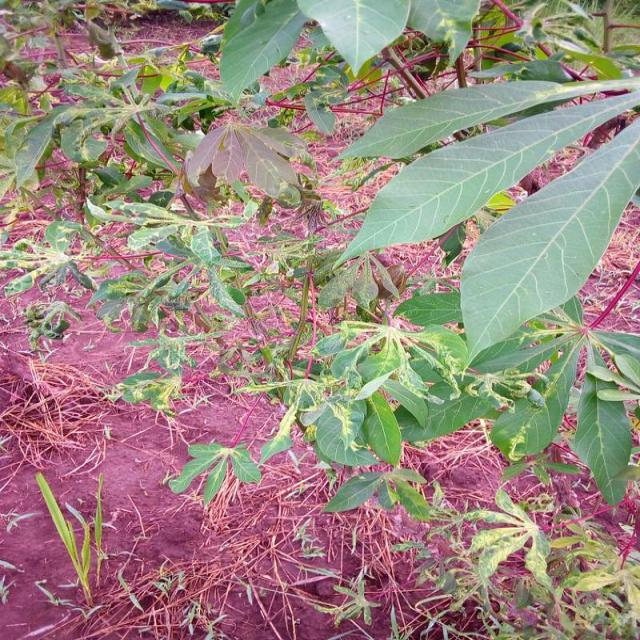cassava leaf: (331, 83, 638, 271), (458, 114, 638, 372), (183, 116, 314, 204)
